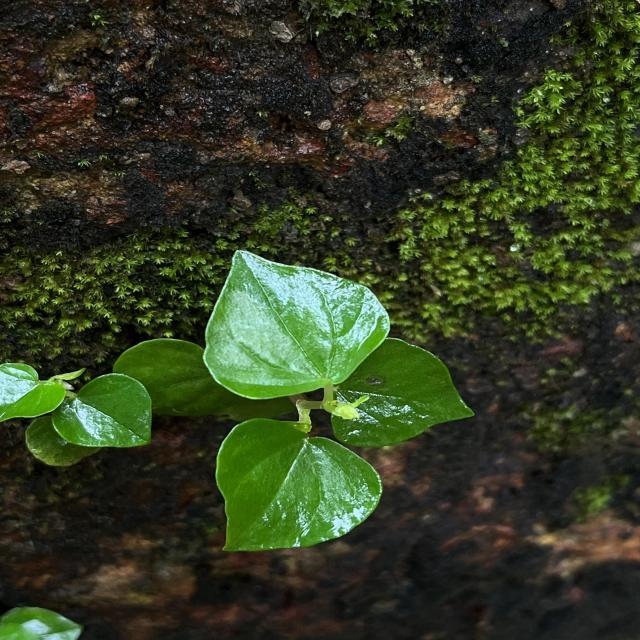Peperomia pellucida: (200, 248, 393, 403), (213, 416, 385, 554)
